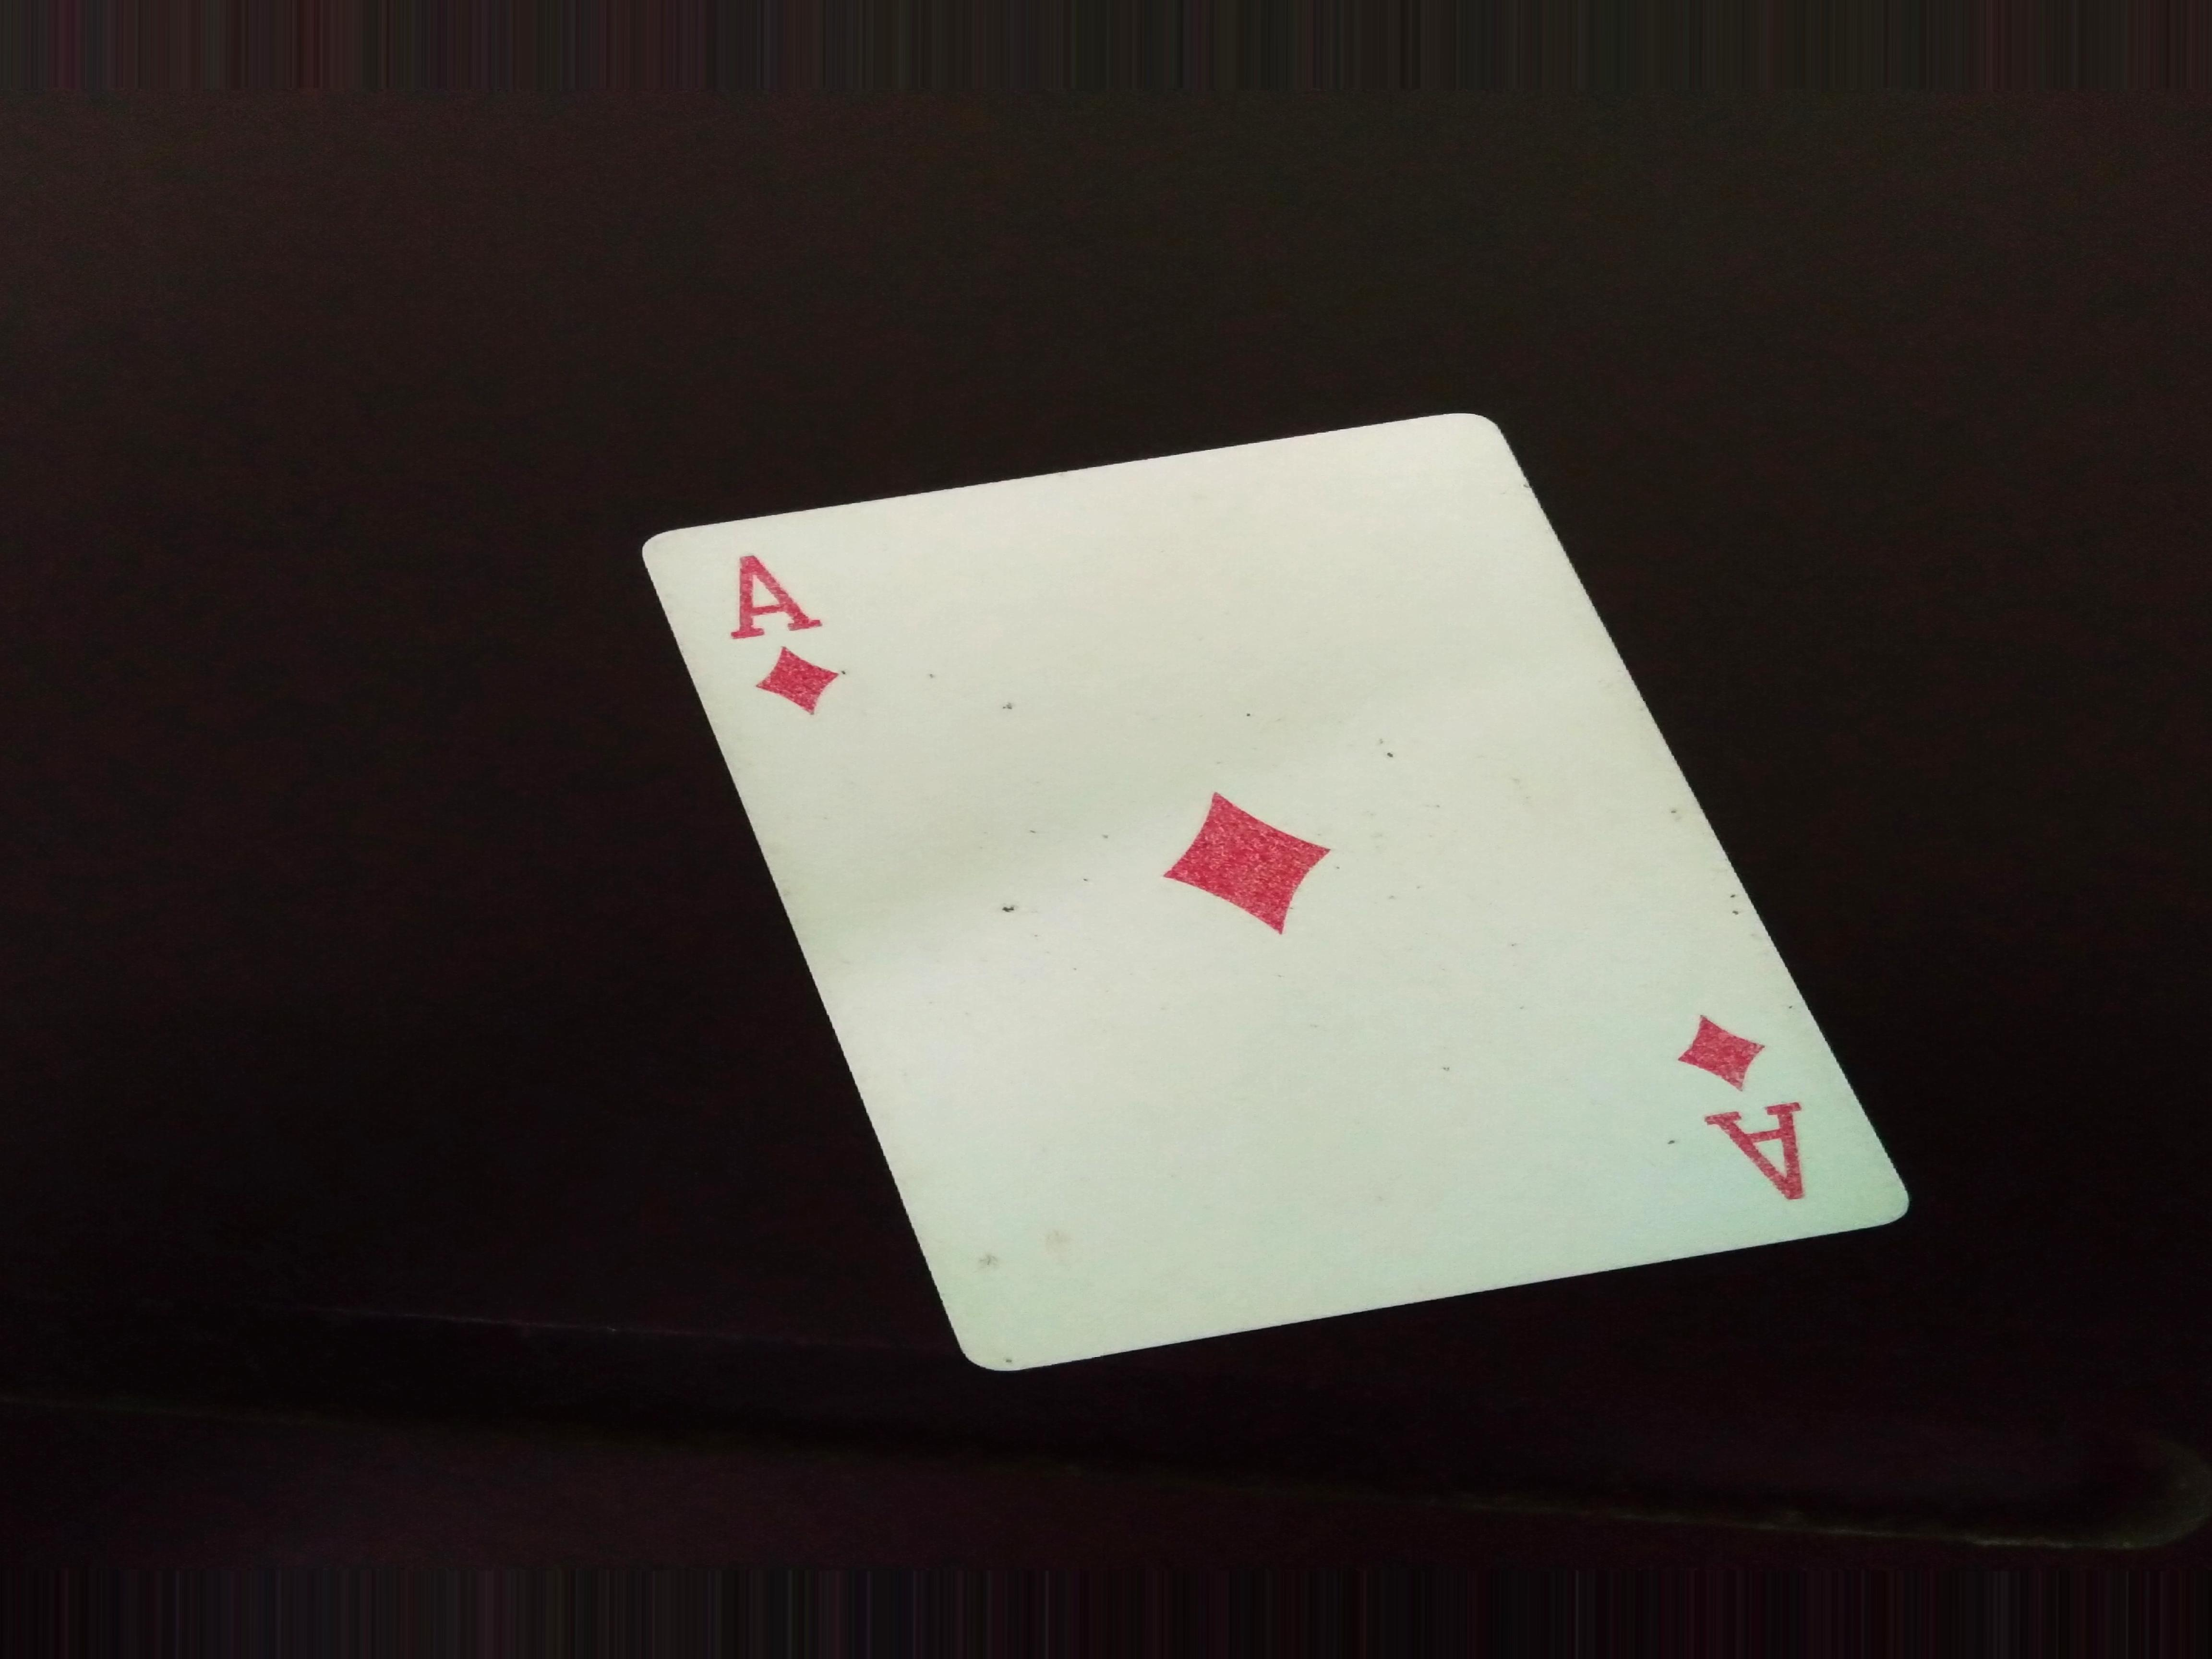AD: (719, 530, 860, 737)
